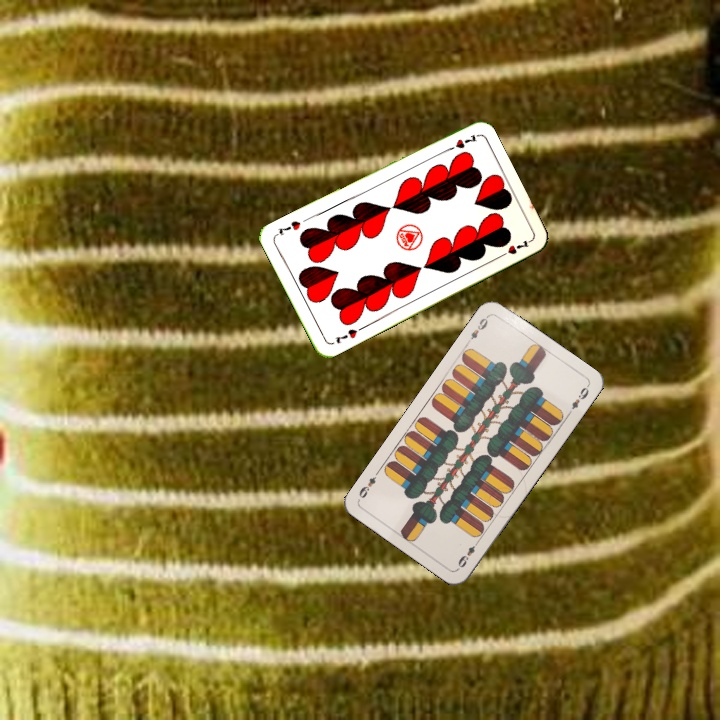E9: (463, 312, 491, 347), (454, 536, 482, 570)
H7: (441, 131, 480, 154), (331, 323, 366, 346)
